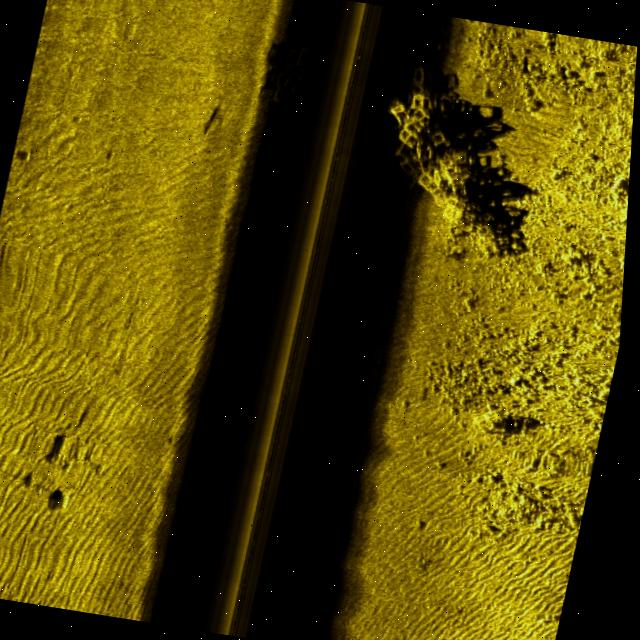artificial reef: (351, 51, 560, 267), (261, 26, 332, 119)
